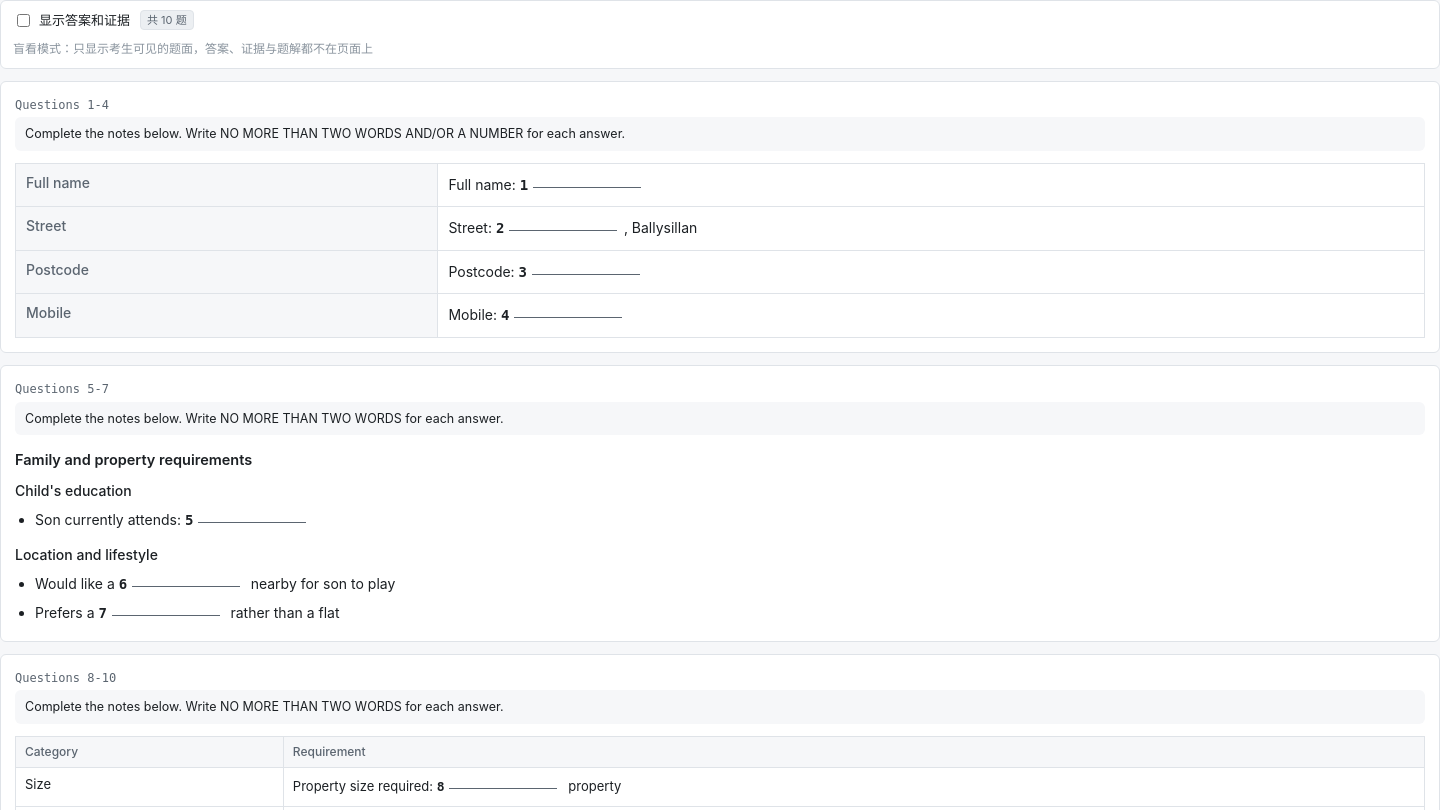
Test case: 题目预览的真实版式 › signpost 是审核元数据，不印在考生题面上
This screenshot has width=1440, height=810.
expect the text "Personal details taken by phone" is not shown: met
Click the checkbox labelled "显示答案和证据" at (24,20), box [17,14,30,27]
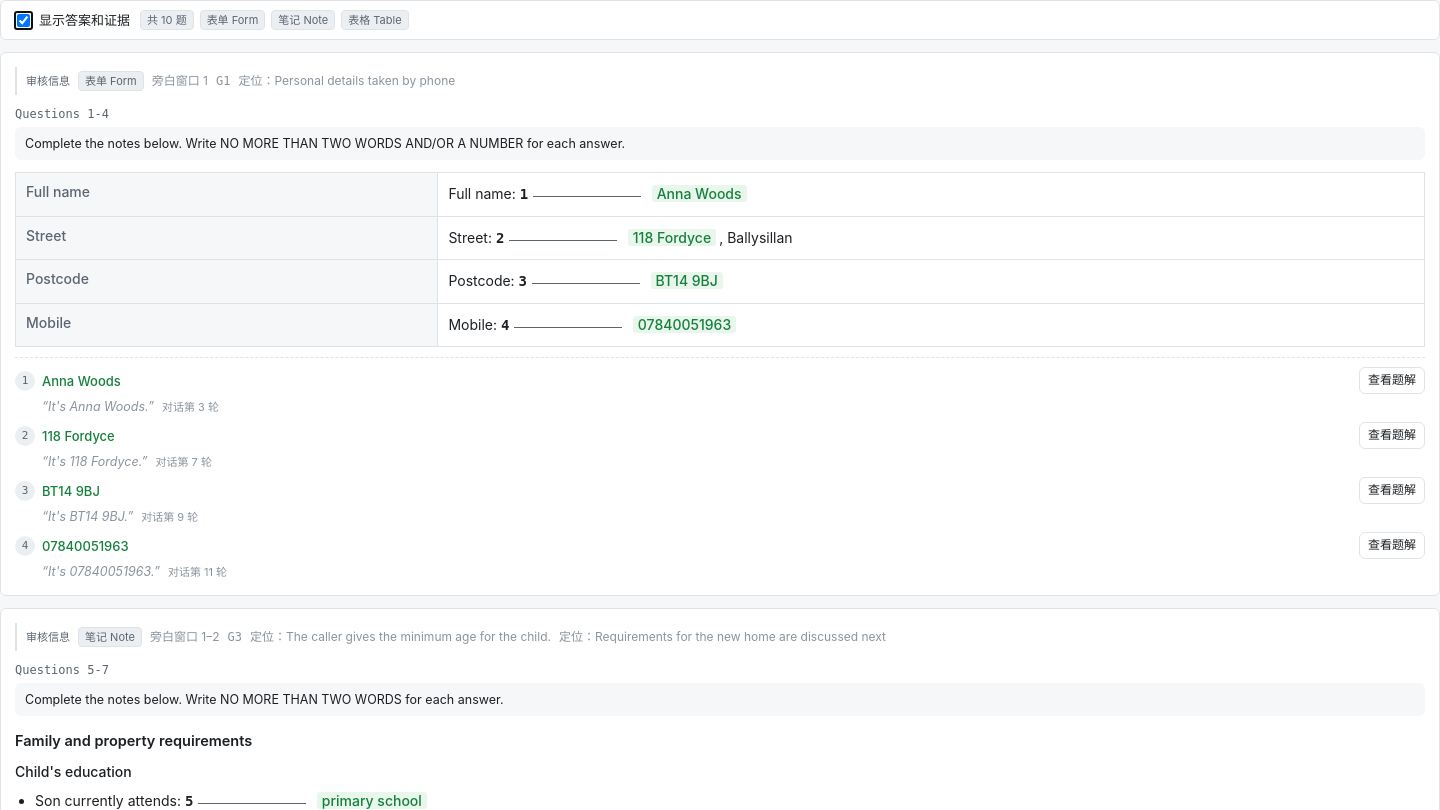
expect the element showing "审核信息 表单 Form 旁白窗口 1 G1 定位：Personal details taken by phone" is shown: met, box [15,67,1425,95]
